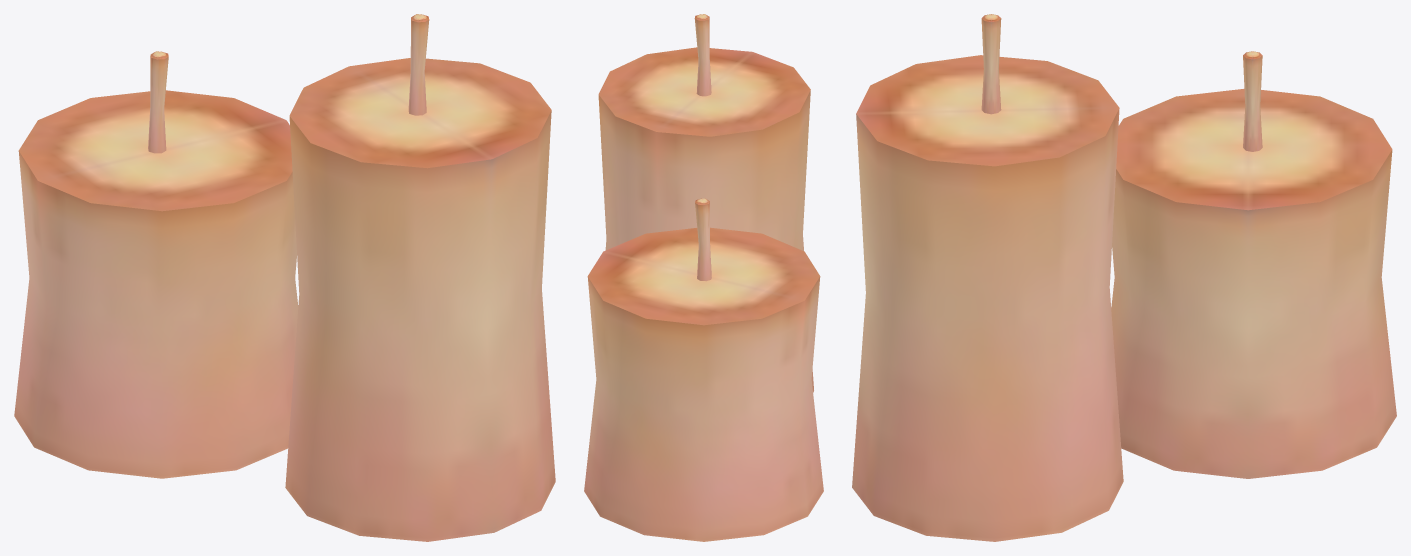
3 views of the same model, side by side, from view 1: azimuth 30°, elevation 25°; view 2: azimuth 150°, elevation 25°; view 3: azimuth 270°, elevation 25° (orthographic). The views are drawn at different scales.
Size of the model in its own units: 0.2322 by 0.2778 by 0.2916.
Materials: 1 (1 with a texture image).
